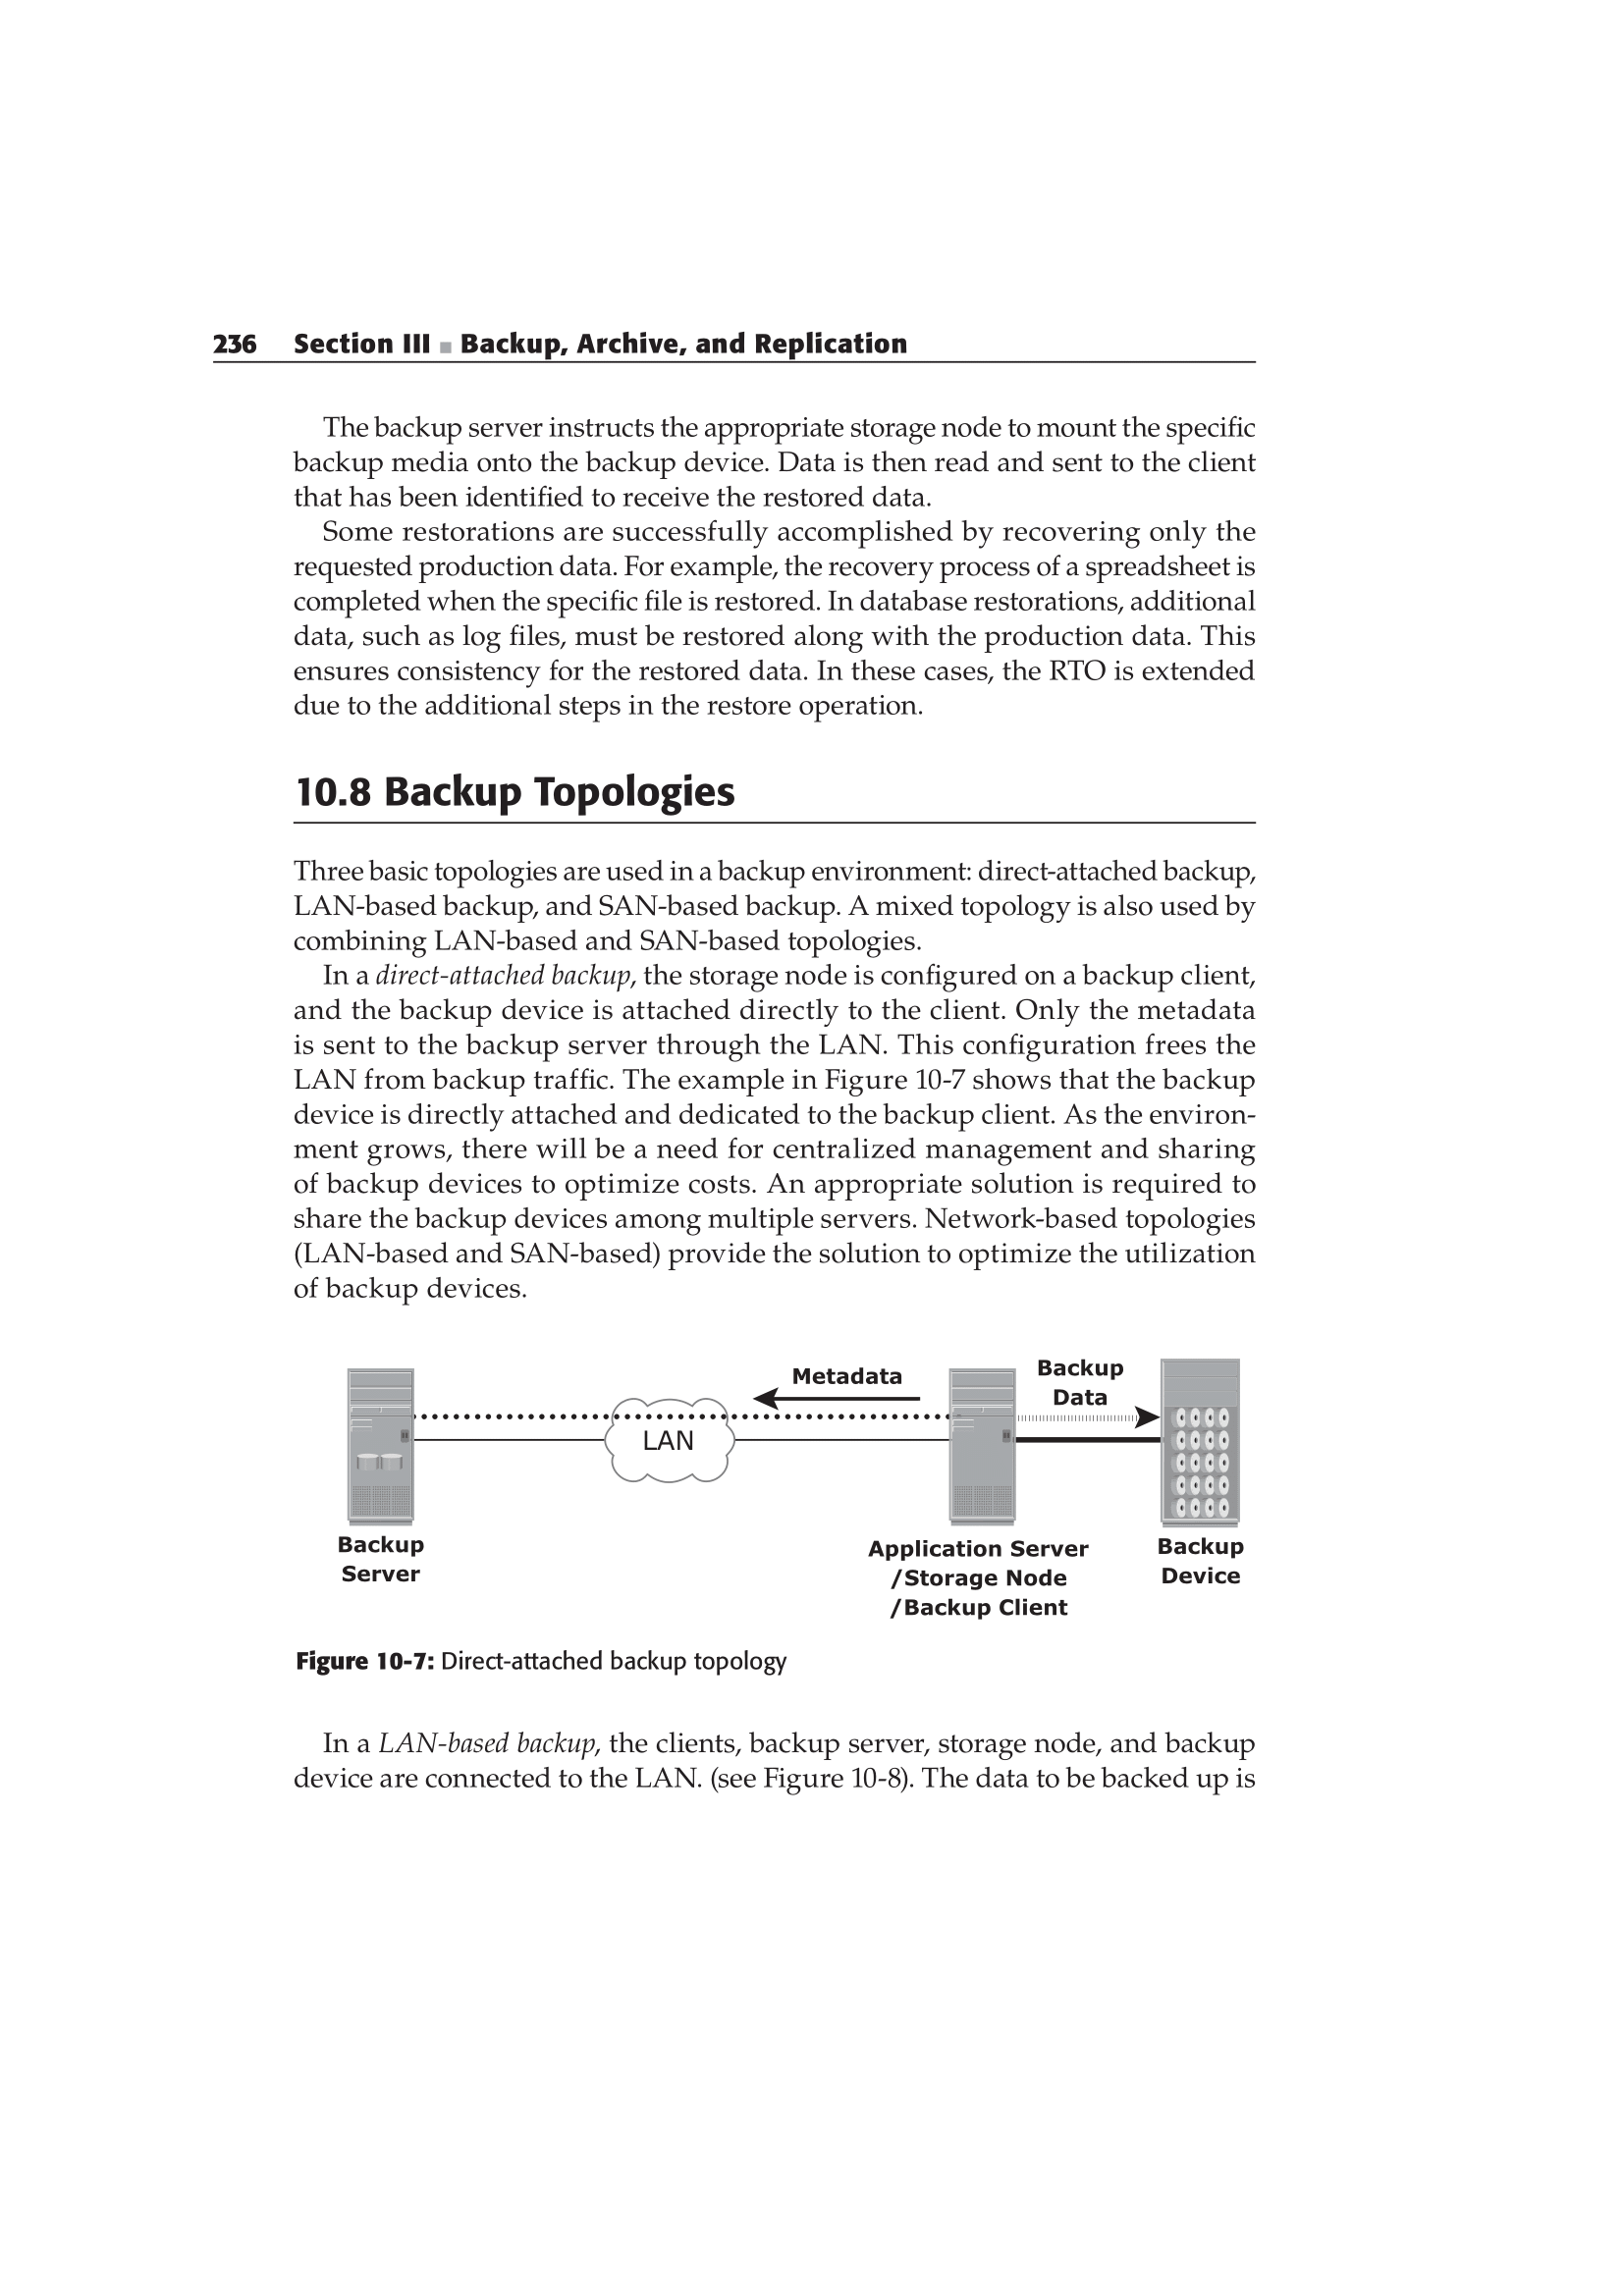Image: (276, 1324, 1619, 1629)
Paragraph: (188, 858, 1396, 1299), (197, 381, 1379, 741), (218, 1713, 1321, 1855), (163, 290, 1052, 377), (263, 741, 910, 851), (206, 1643, 884, 1713)
